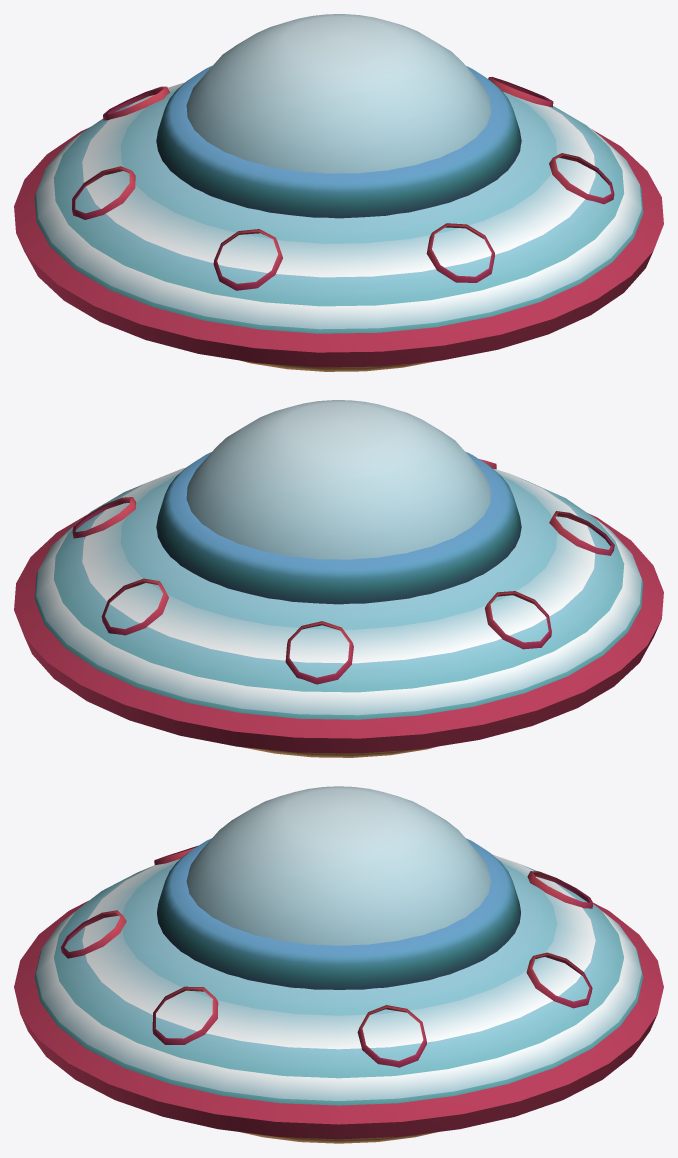
Rendered from SM_Ufo.fbx.
3 renders of one model, top to bottom at view 1: azimuth 30°, elevation 25°; view 2: azimuth 150°, elevation 25°; view 3: azimuth 270°, elevation 25°, orthographic.
Visible parts, largest first — view 1: SM_Ufo; view 2: SM_Ufo; view 3: SM_Ufo.
Part boxes in pixels (bbox=[...]): SM_Ufo: bbox=[14, 14, 663, 371]; SM_Ufo: bbox=[14, 400, 663, 757]; SM_Ufo: bbox=[14, 786, 663, 1143].
Size of the model in its own units: 108 by 51.96 by 108.
